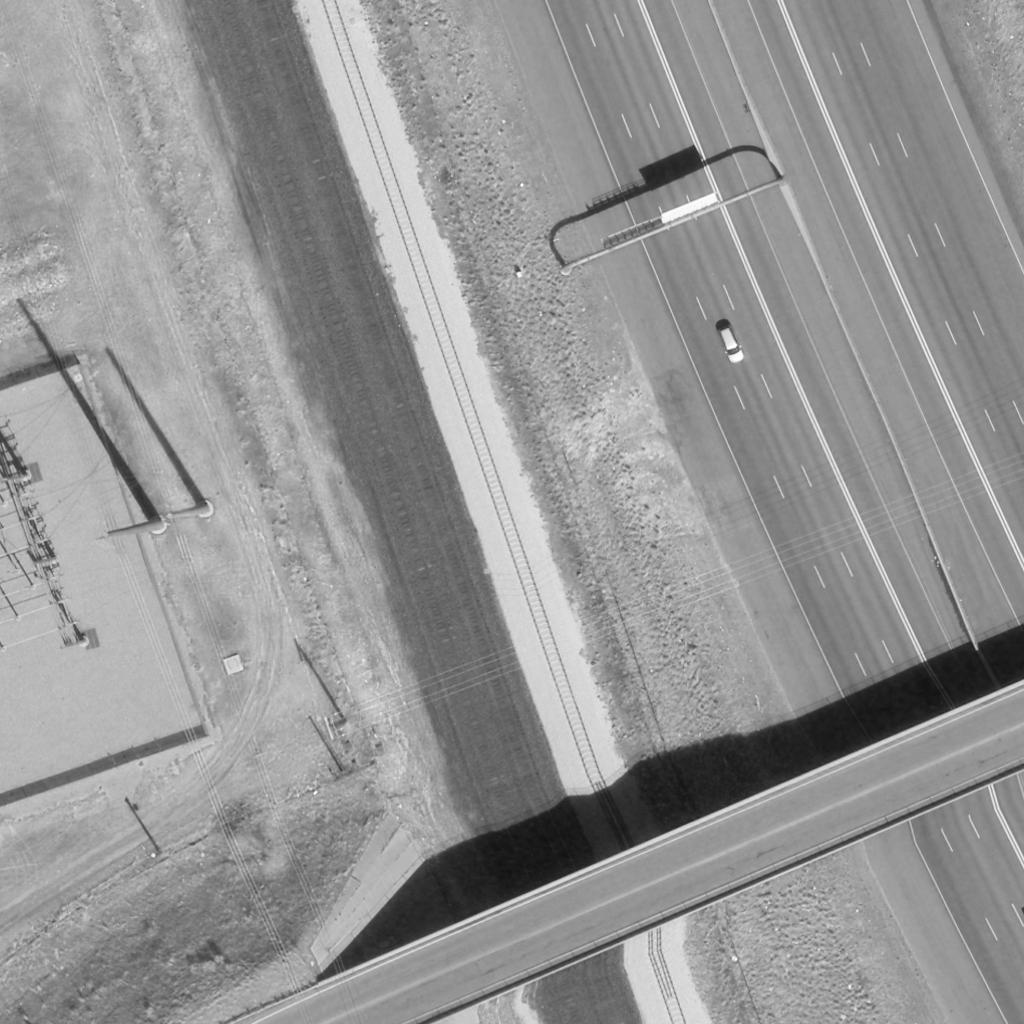vehicle: (715, 325, 747, 365)
